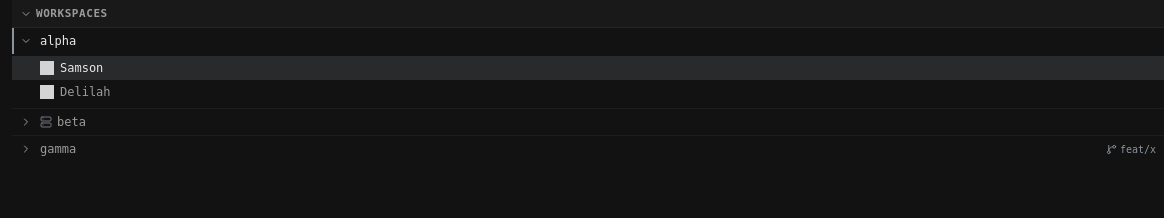
Scenario: WorkspaceNavigatorSection › expands and collapses without touching workspace residency or terminals
The width and height of the screenshot is (1164, 218).
Click the button named "Expand beta" at (26, 122), box [16,112,36,132]
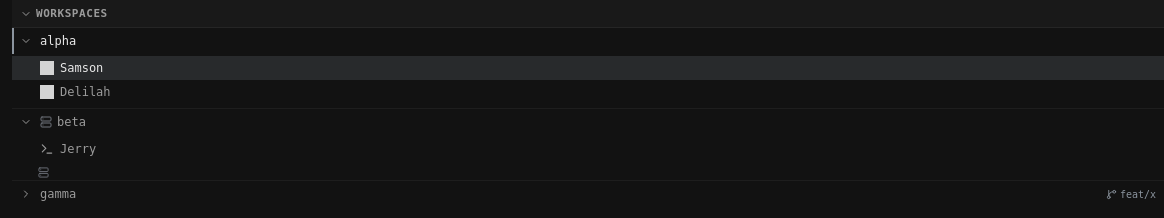
expect the button named "Collapse beta" is expanded: met, box [16,112,36,132]
expect the text "Jerry" is shown: met, box [60,140,96,158]
Click the button named "Collapse alpha" at (26, 41), box [16,31,36,51]
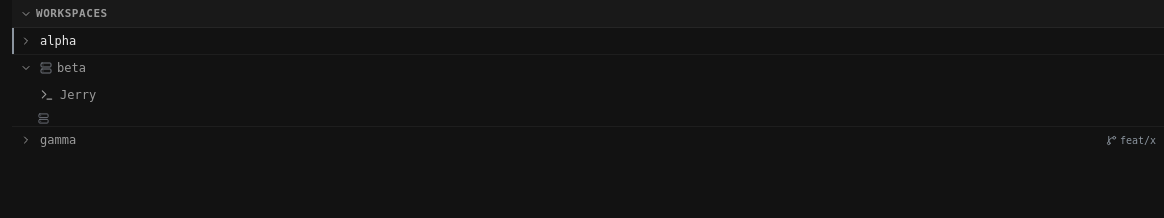
expect the button "Samson" is gone: met
